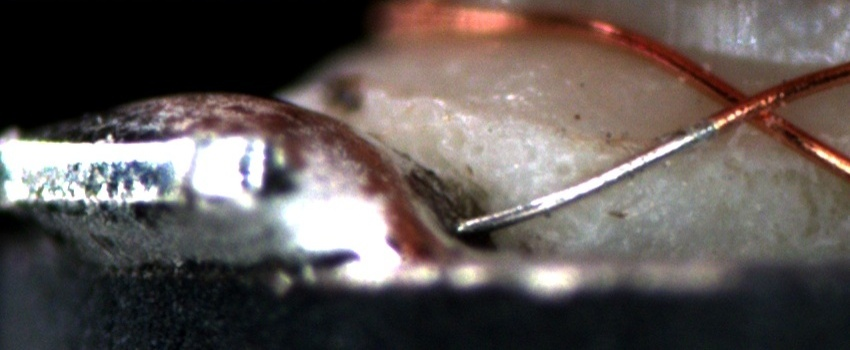CL: (708, 75, 801, 135)
TS: (456, 117, 716, 236)
